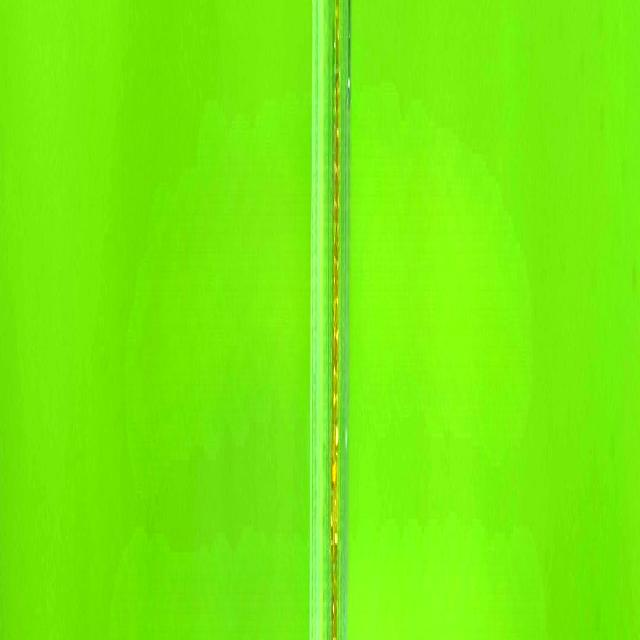BLS: (330, 0, 340, 640), (347, 0, 351, 111)
